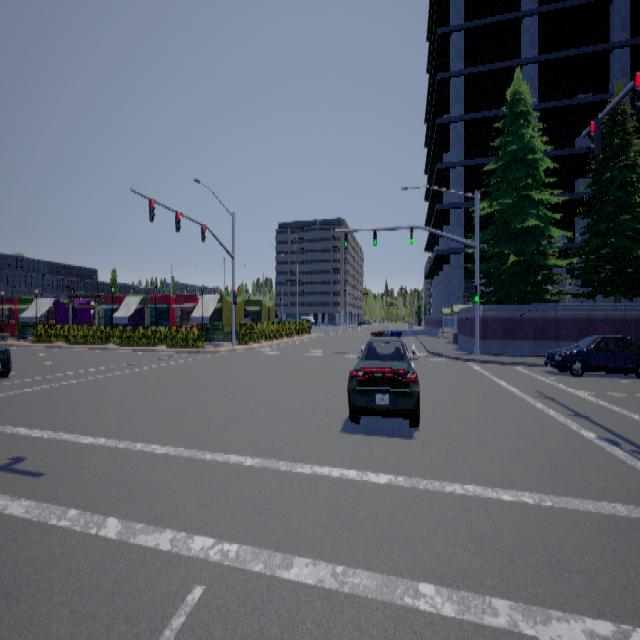green_light: (372, 228, 377, 245), (474, 284, 478, 303), (344, 230, 348, 247), (410, 224, 412, 243)
red_light: (586, 116, 600, 158), (630, 69, 639, 120), (148, 197, 155, 221), (174, 209, 181, 231), (200, 223, 206, 241), (232, 288, 237, 303)
vehicle: (346, 330, 419, 426), (543, 333, 639, 378)
